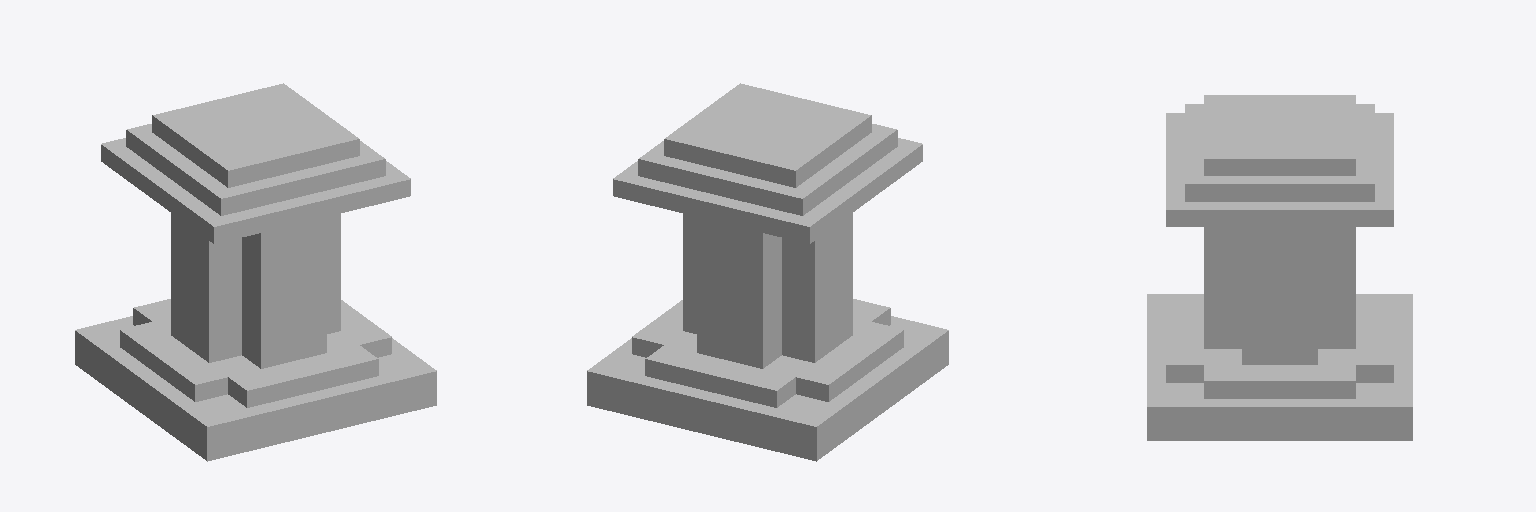
The model's file is 03_pedestal_8X.obj.
3 views of the same model, side by side, from view 1: azimuth 30°, elevation 25°; view 2: azimuth 150°, elevation 25°; view 3: azimuth 270°, elevation 25° (orthographic).
Bounding box in the file's own units: 14 × 15 × 14.